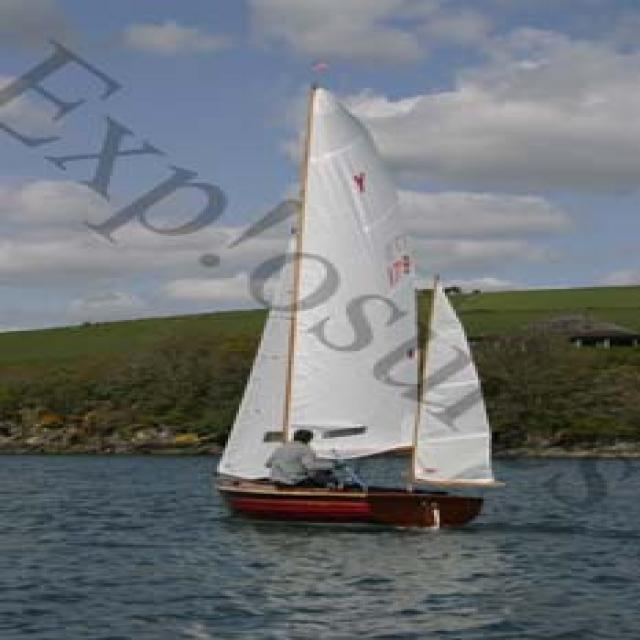Ship: (192, 73, 503, 531)
